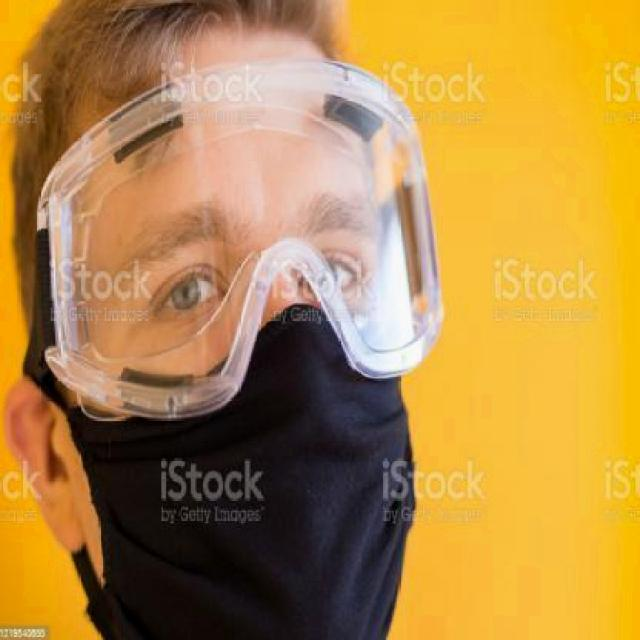face_mask: (73, 177, 418, 640)
glasses: (30, 54, 447, 434)
